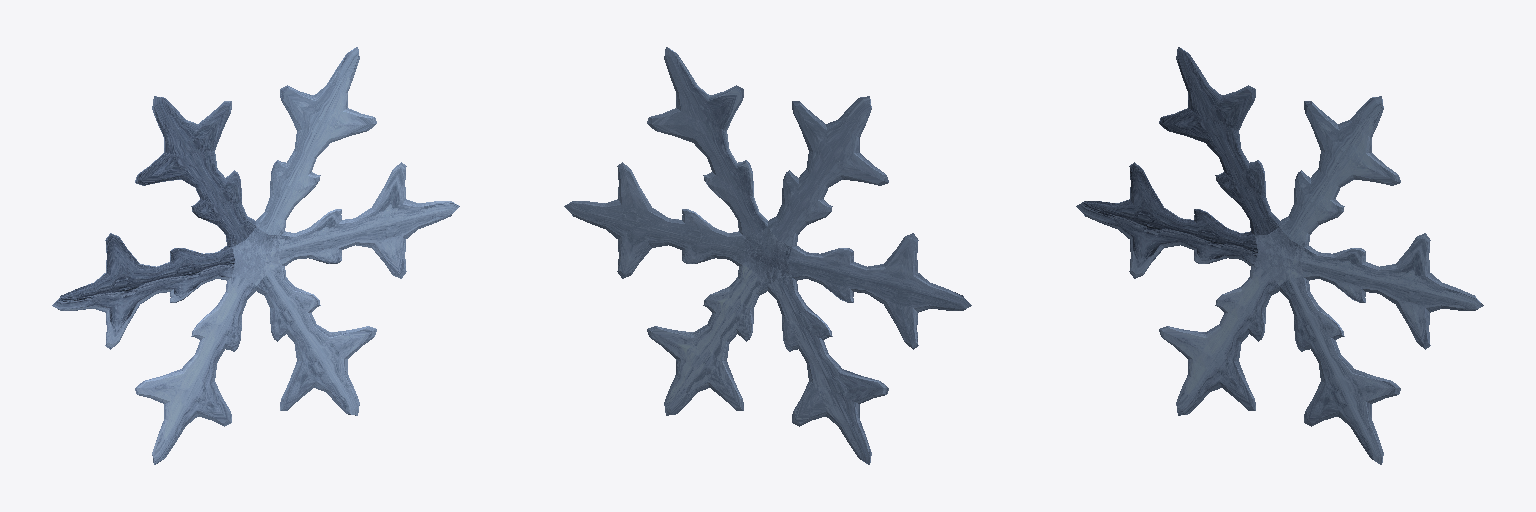
3 views of the same model, side by side, from view 1: azimuth 30°, elevation 25°; view 2: azimuth 150°, elevation 25°; view 3: azimuth 330°, elevation 25° (orthographic).
Visible parts, largest first — view 1: Cylinder; view 2: Cylinder; view 3: Cylinder.
Boxes of the visible parts, x1,y1,x2,y2 form: Cylinder: [52, 47, 459, 464]; Cylinder: [564, 47, 971, 464]; Cylinder: [1076, 47, 1483, 464].
Size of the model in its own units: 0.798 by 0.691 by 0.0049.
1 materials, 1 textured.